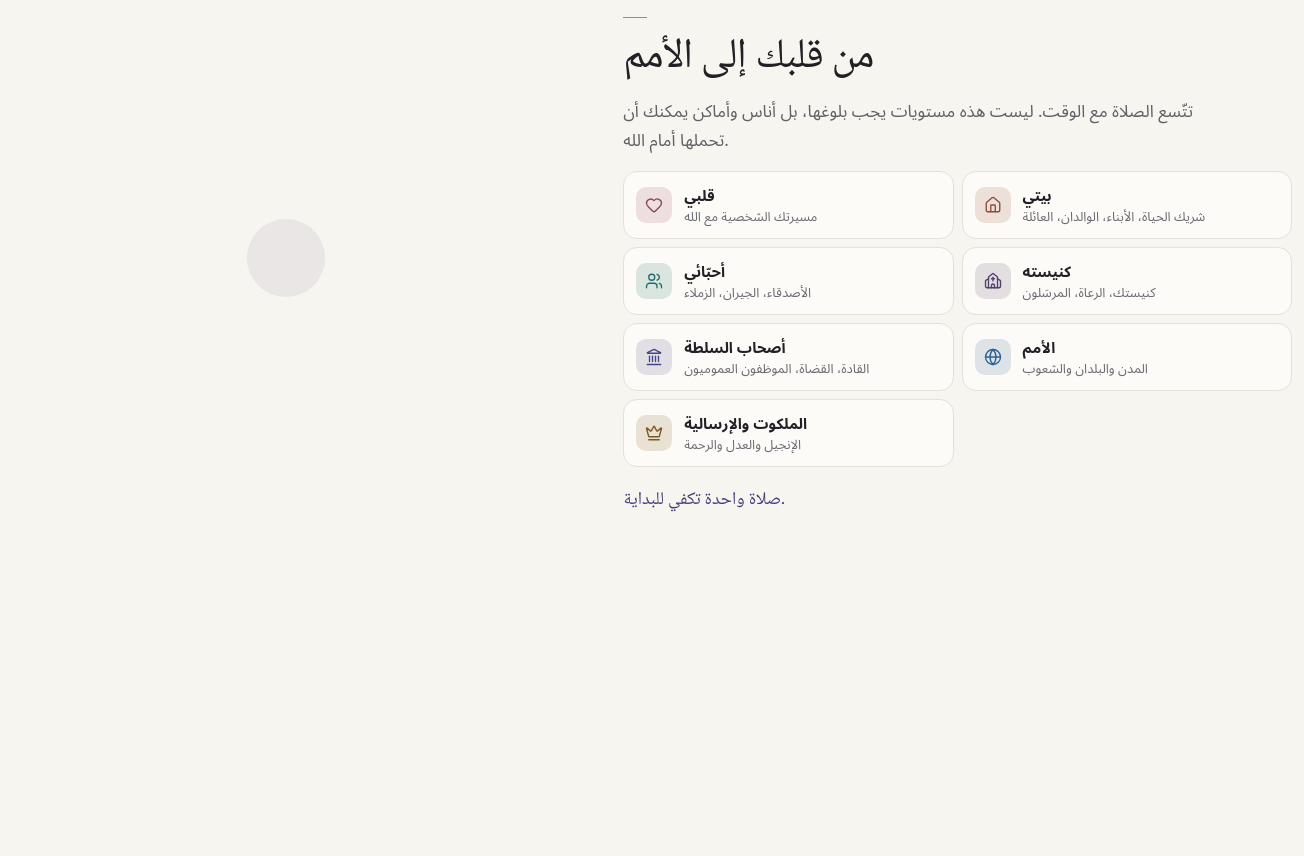
Test: LandingCircles › teaches in the visitor’s language once its words have arrived (Arabic, right to left)
The image size is (1304, 856).
Click the button "الأمم المدن والبلدان والشعوب" at x=1127, y=357, box 962,323 -> 1292,391
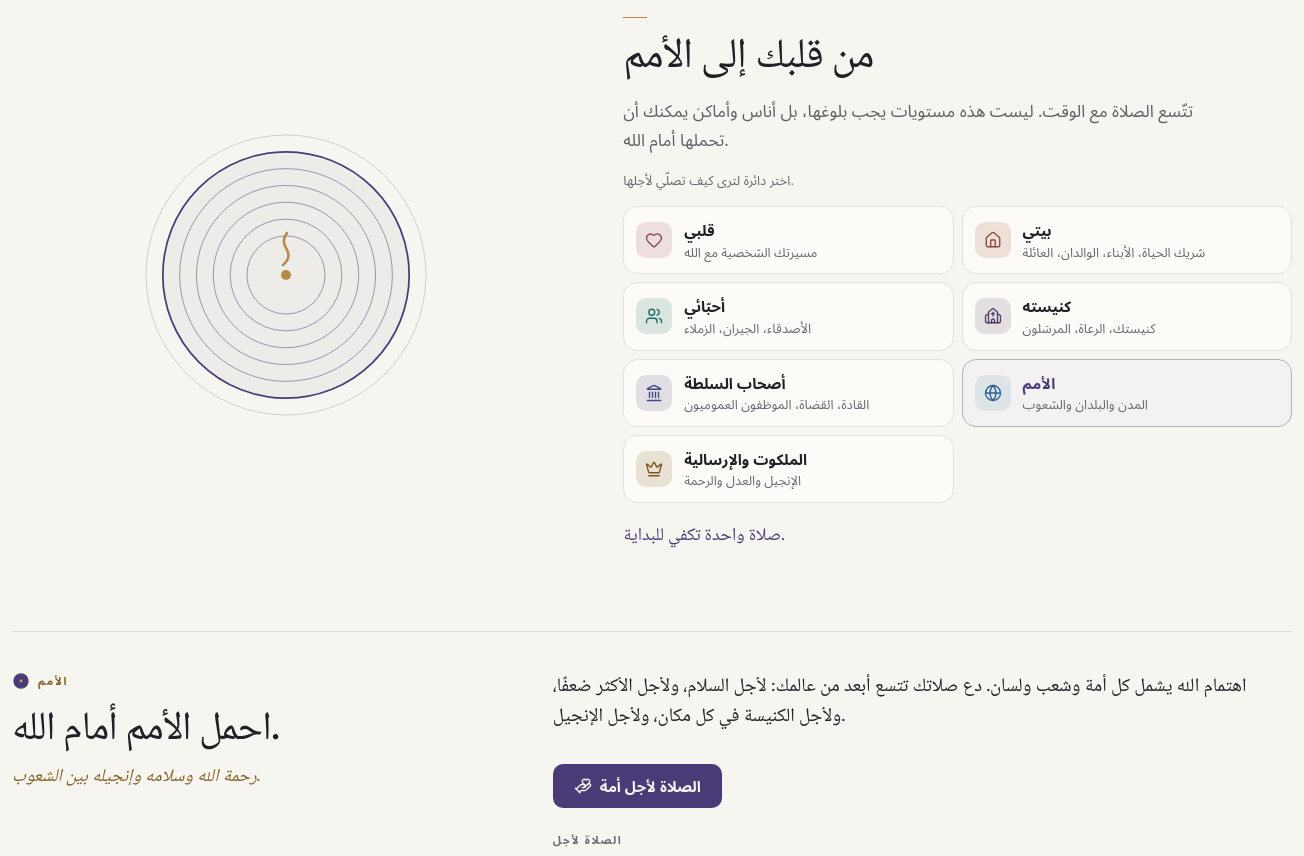
Now the heading "احمل الأمم أمام الله." is shown, box 12,710 -> 279,750
